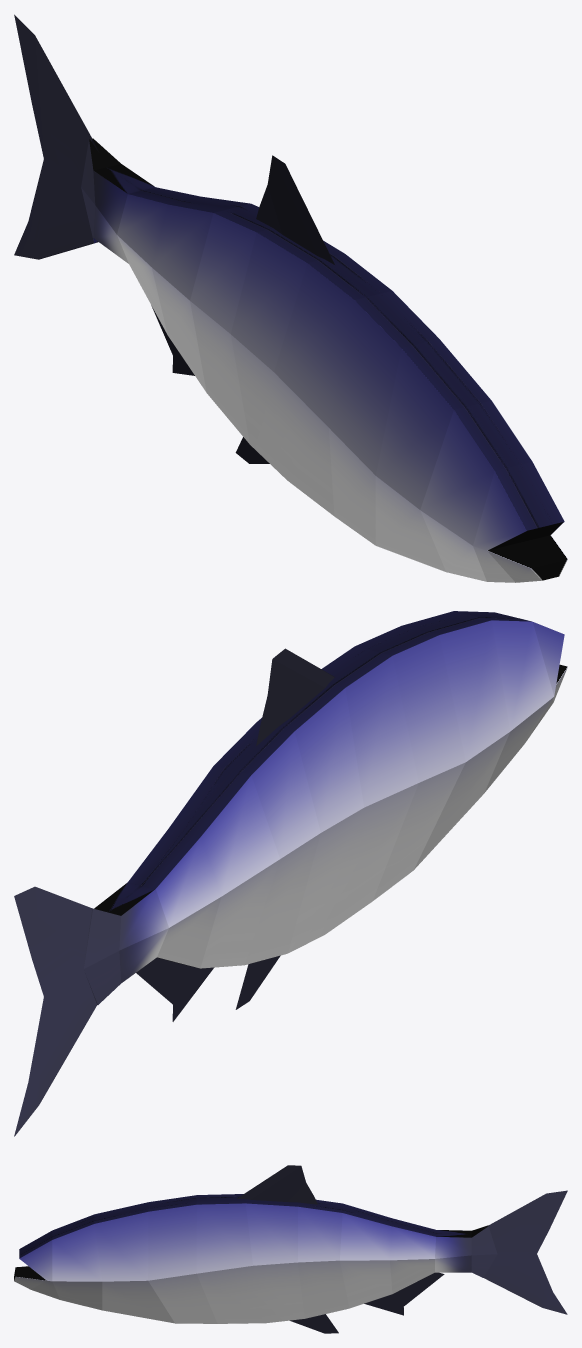
The model's file is vimma.fbx.
3 views of the same model, one above another, from view 1: azimuth 30°, elevation 25°; view 2: azimuth 150°, elevation 25°; view 3: azimuth 270°, elevation 25° (orthographic). The views are drawn at different scales.
Parts seen in each view (by area): view 1: Cube.007; view 2: Cube.007; view 3: Cube.007.
Part boxes in pixels (bbox=[...]): Cube.007: bbox=[14, 14, 567, 582]; Cube.007: bbox=[14, 611, 567, 1136]; Cube.007: bbox=[14, 1165, 567, 1333].
Bounding box in the file's own units: 11.58 × 40.03 × 119.
1 material, 1 textured.
